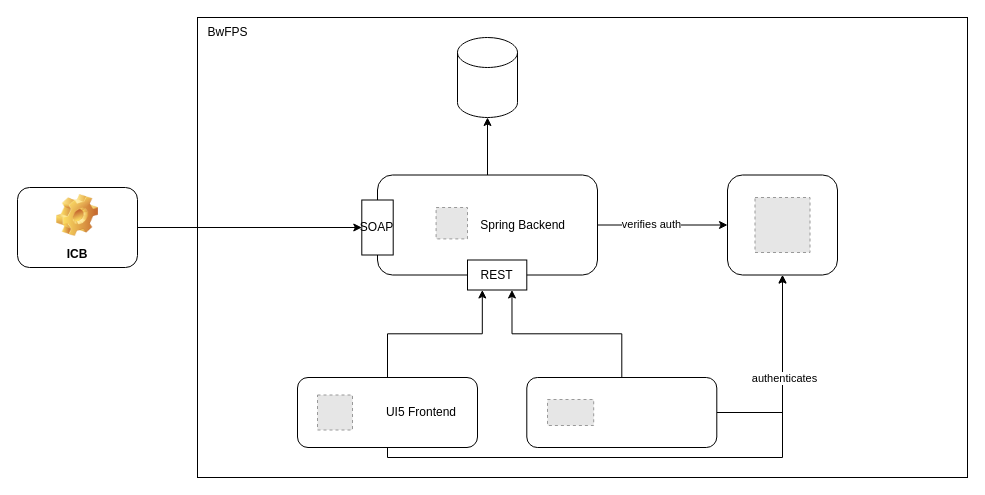
The diagram is 985 pixels wide and 495 high, and some of its shapes have lost their labels. Grey dashed boxes stand in for pictures. Each missing label, with the box of its shape:
Android Frontend: (526, 376, 717, 448)
Keycloak: (726, 174, 838, 275)
MSSQL: (456, 36, 518, 118)
